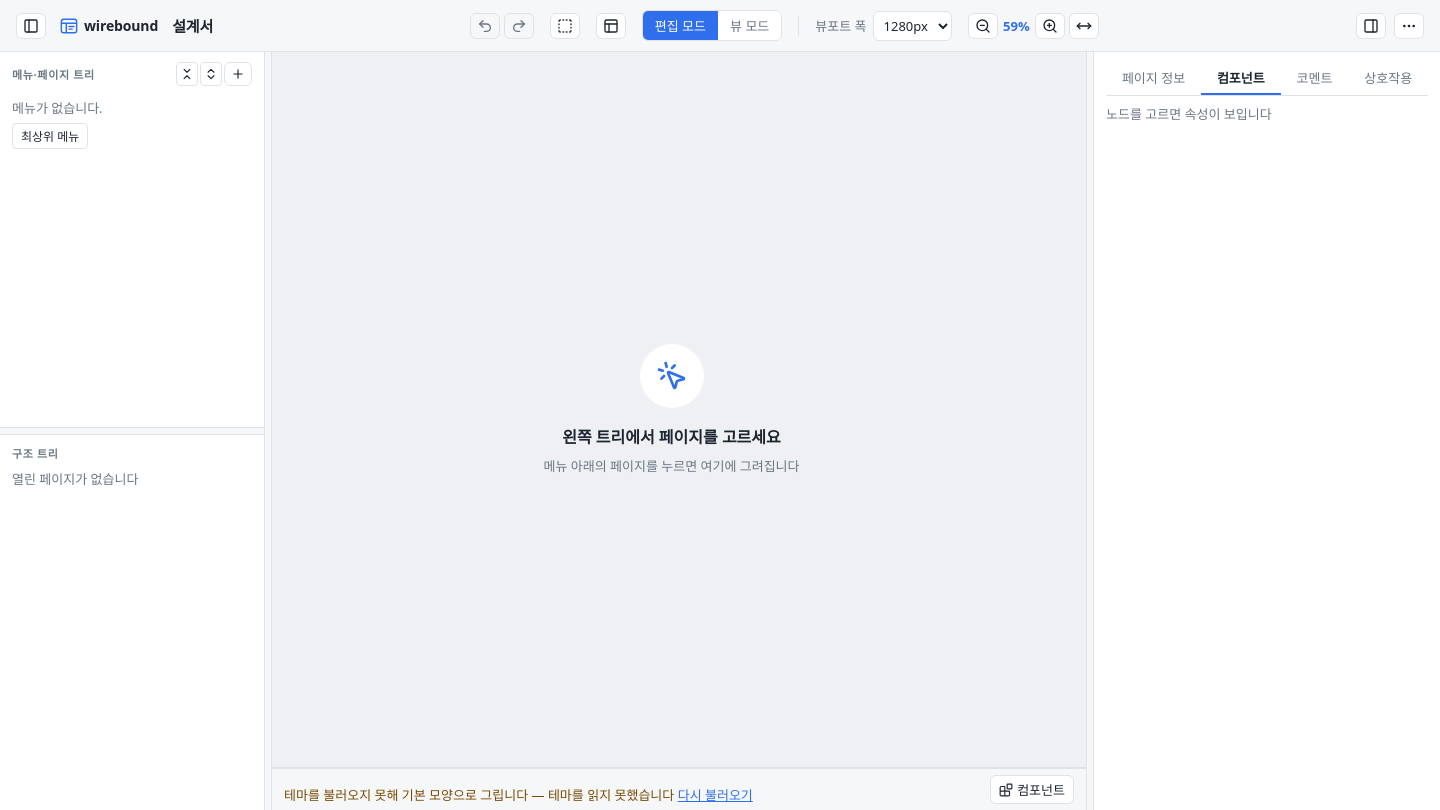
Test: 빈 메뉴 트리 — 최상위 메뉴를 만드는 자리 › 실패하면 서버 문장이 트리 안에 남고 트리를 다시 받지 않는다
expect the heading "설계서" is shown: met, box 172,15 -> 213,36
expect the text "메뉴가 없습니다." is shown: met, box 12,98 -> 103,117
Click the button "최상위 메뉴" at (50, 136), box 12,123 -> 88,149
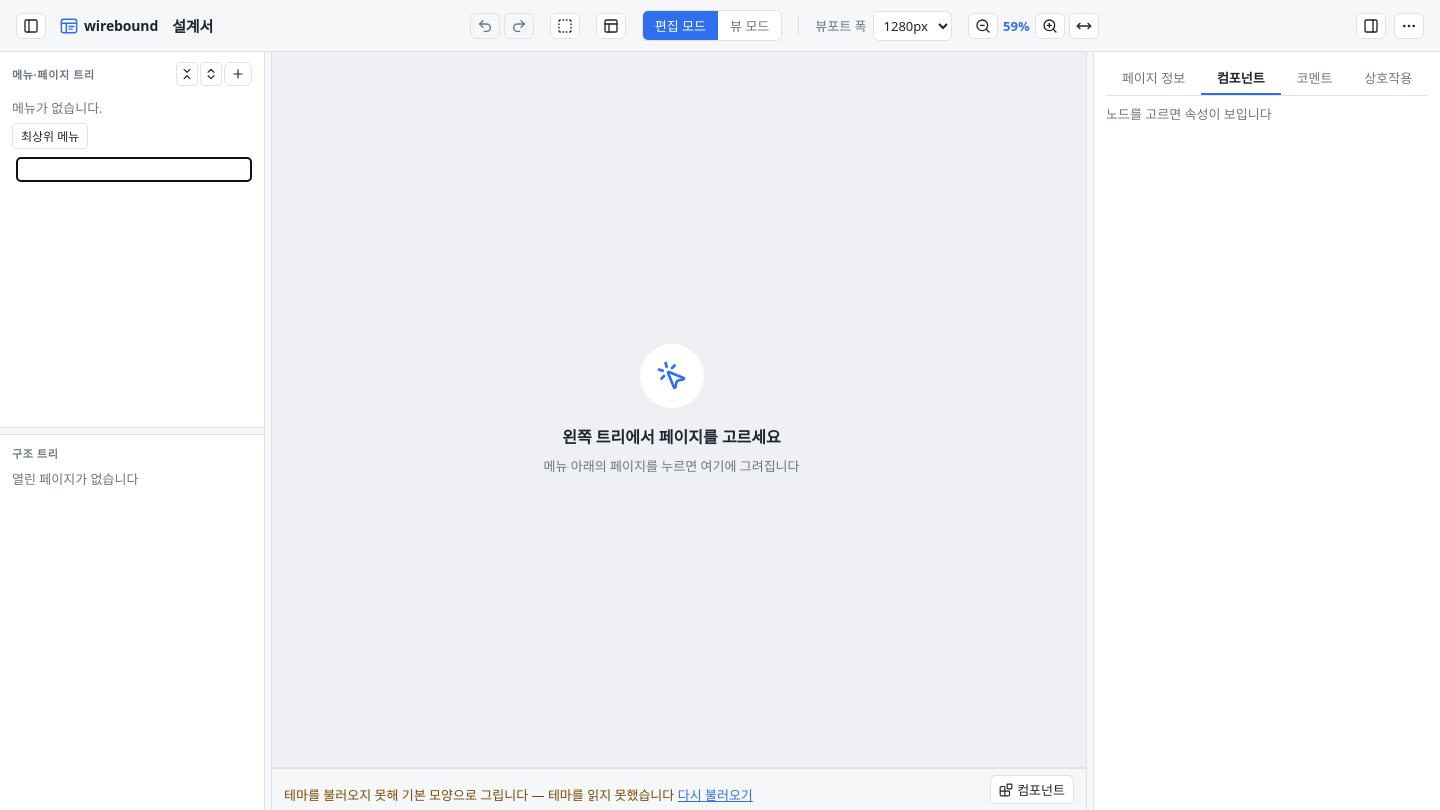
Type "관리자" into the field named "이름" at (134, 170), box 16,157 -> 252,182
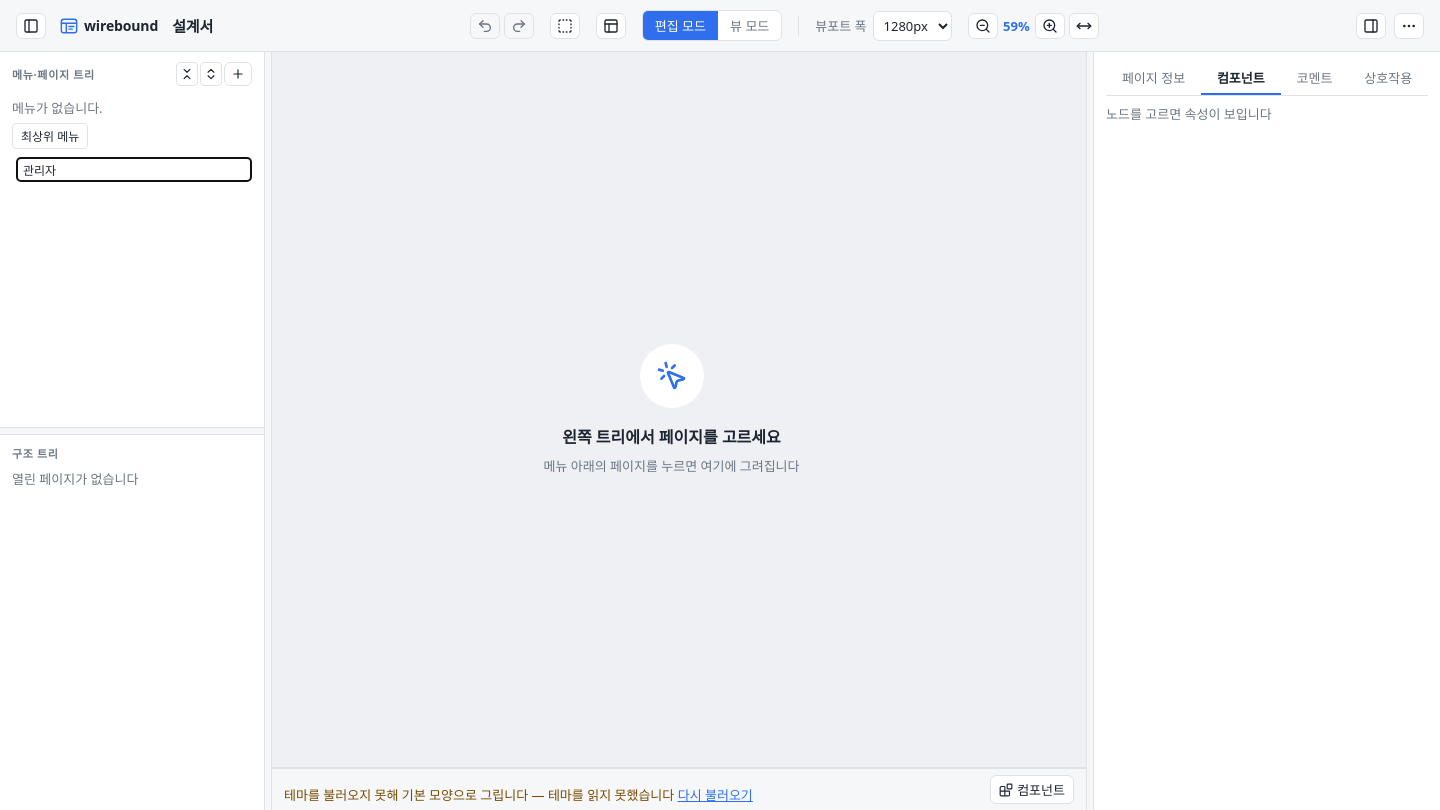
Press Enter in the field named "이름", box 16,157 -> 252,182
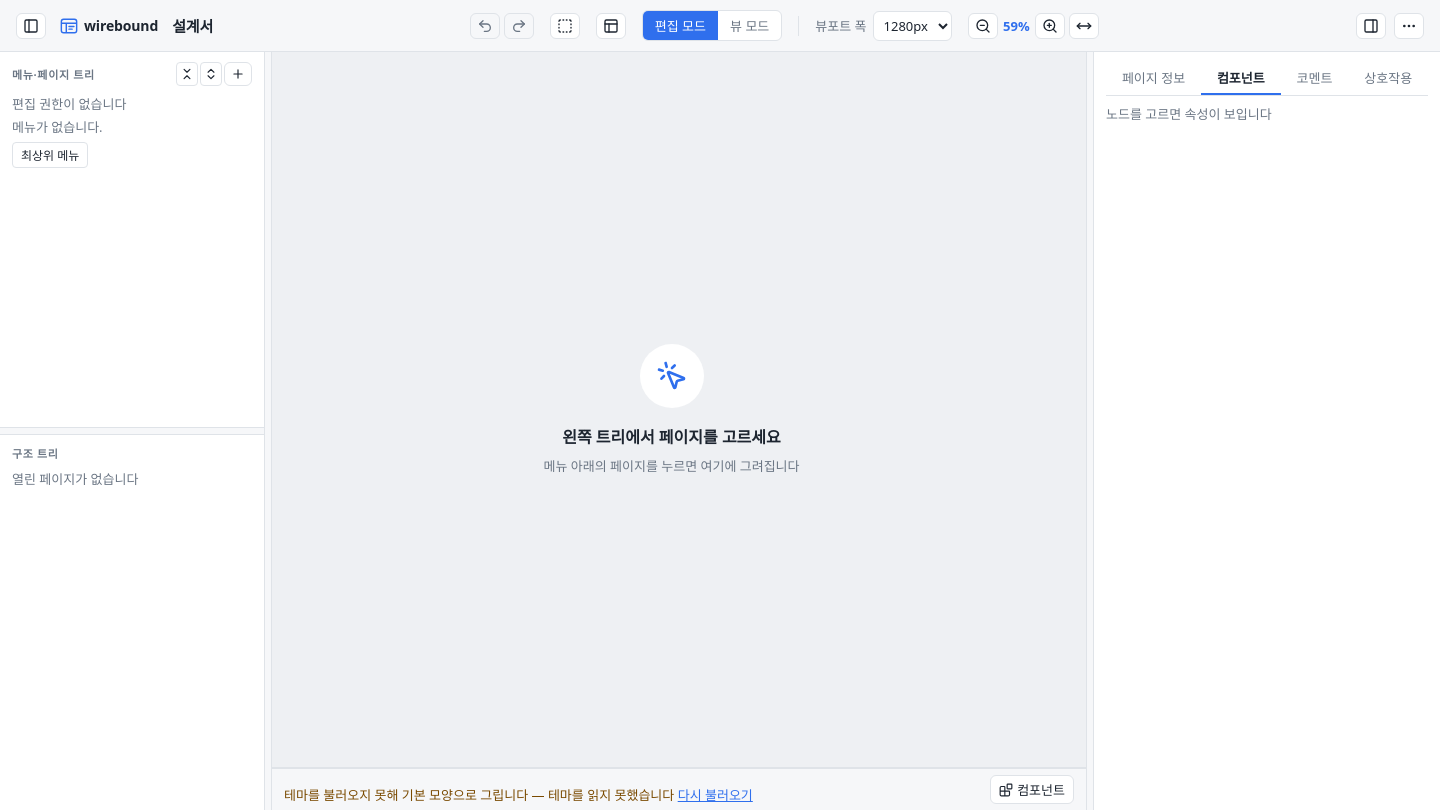
expect the text "편집 권한이 없습니다" is shown: met, box 12,95 -> 126,113
